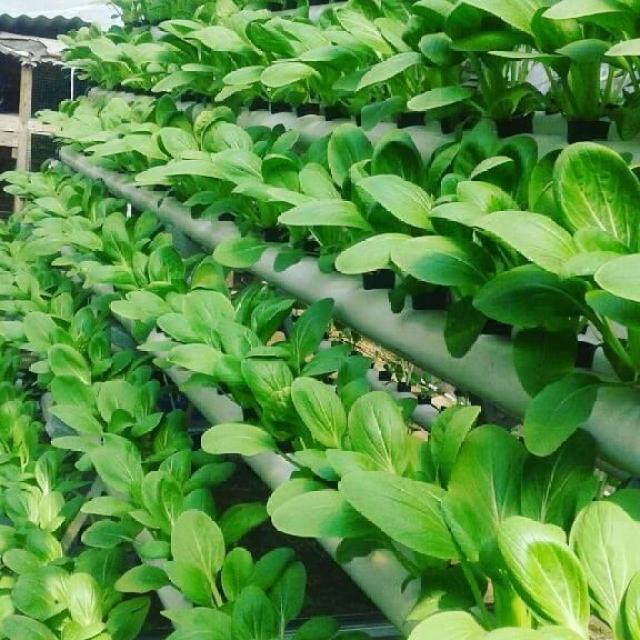pakcoy_sehat: (294, 120, 457, 284)
